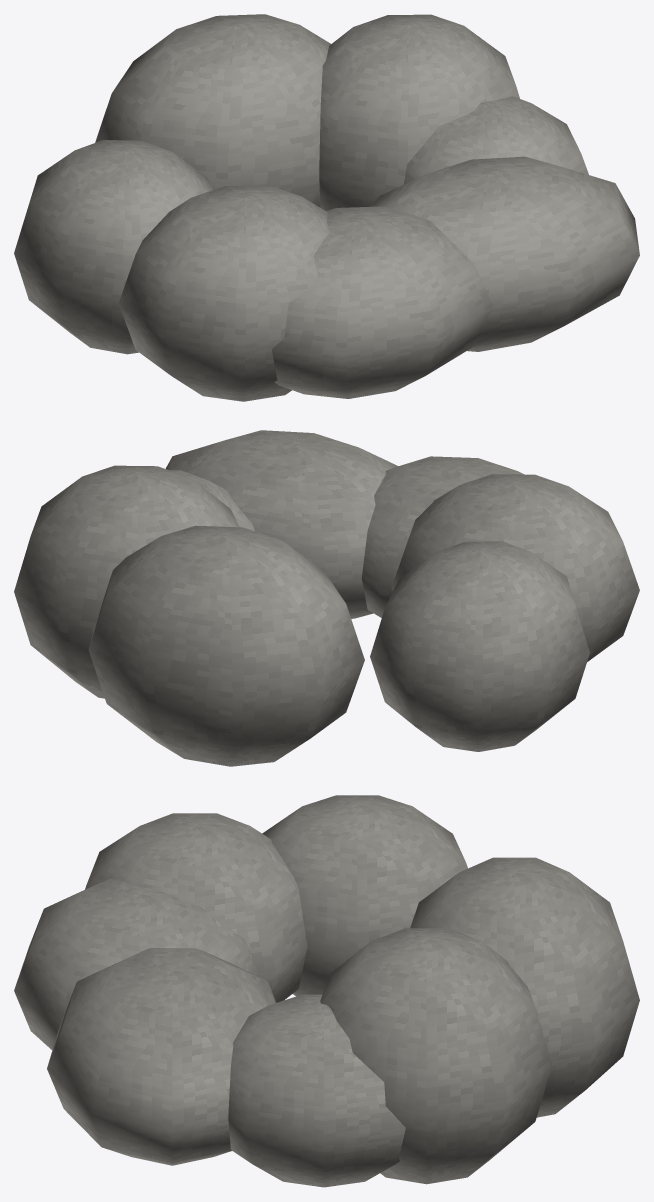
The model's file is rock_cluster01.glb.
The picture shows the model from 3 angles, top to bottom: view 1: azimuth 30°, elevation 25°; view 2: azimuth 150°, elevation 25°; view 3: azimuth 270°, elevation 25°; orthographic projection. The views are drawn at different scales.
Visible parts, largest first — view 1: stone; view 2: stone; view 3: stone.
Boxes of the visible parts, left/top/right/bottom form: stone: left=14, top=14, right=639, bottom=401; stone: left=14, top=430, right=639, bottom=766; stone: left=14, top=795, right=639, bottom=1187.
Bounding box in the file's own units: 1.1 × 0.44 × 1.08.
1 material, 1 textured.
